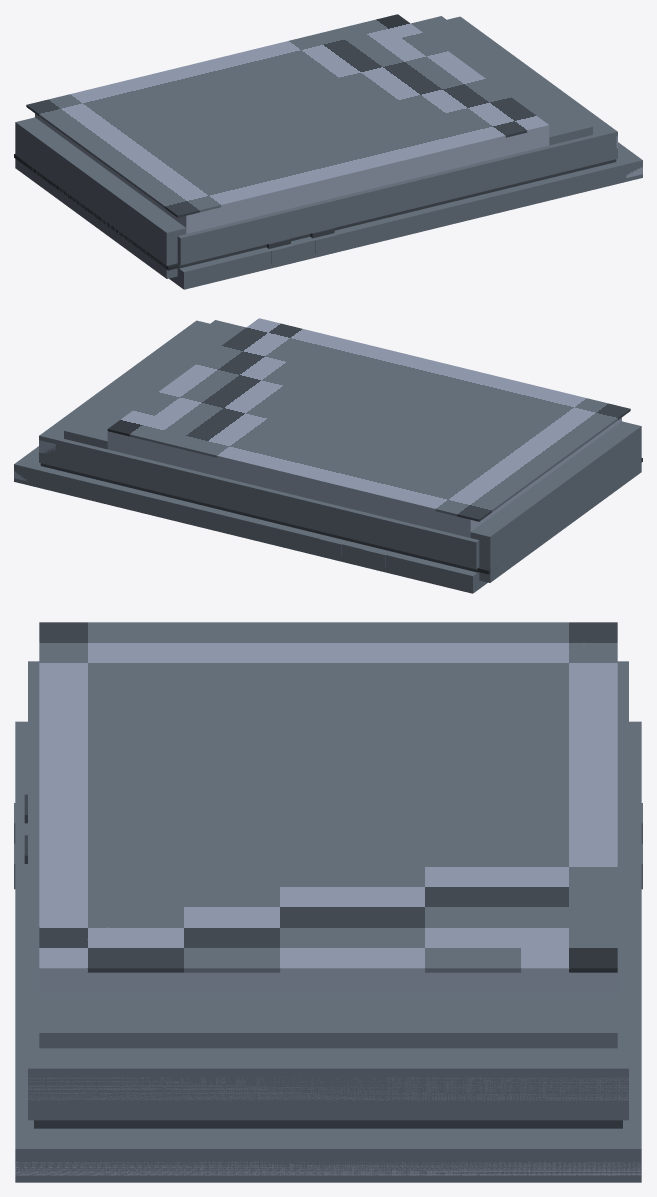
File: CMU3DBedsheetGray.glb
The picture shows the model from 3 angles, top to bottom: view 1: azimuth 30°, elevation 25°; view 2: azimuth 150°, elevation 25°; view 3: azimuth 270°, elevation 25°; orthographic projection. The views are drawn at different scales.
Visible parts, largest first — view 1: original upper cloth weave and stripes, upper folded cloth, soft left folded edge, lower folded cloth, upper fold loft, staggered free cloth end, recessed fold seam, left lower seam; view 2: original upper cloth weave and stripes, upper folded cloth, soft left folded edge, lower folded cloth, upper fold loft, staggered free cloth end, recessed fold seam; view 3: original upper cloth weave and stripes, upper folded cloth, lower folded cloth, staggered free cloth end, upper fold loft, lower free hem, recessed fold seam, upper free hem.
Part boxes in pixels (box(x1,y1,x2,y2)): original upper cloth weave and stripes: box(26, 14, 549, 217); upper folded cloth: box(177, 16, 617, 265); soft left folded edge: box(15, 117, 186, 278); lower folded cloth: box(169, 142, 642, 289); upper fold loft: box(35, 113, 549, 233); staggered free cloth end: box(411, 16, 592, 145); recessed fold seam: box(178, 159, 616, 268); left lower seam: box(14, 154, 178, 270); original upper cloth weave and stripes: box(107, 318, 630, 521); upper folded cloth: box(39, 320, 479, 569); soft left folded edge: box(470, 421, 641, 582); lower folded cloth: box(14, 446, 487, 593); upper fold loft: box(107, 417, 621, 537); staggered free cloth end: box(64, 320, 245, 449); recessed fold seam: box(40, 463, 478, 572); original upper cloth weave and stripes: box(39, 622, 617, 972); upper folded cloth: box(28, 661, 628, 1120); lower folded cloth: box(15, 721, 641, 1182); staggered free cloth end: box(39, 992, 617, 1048); upper fold loft: box(39, 972, 617, 992); lower free hem: box(15, 1161, 641, 1175); recessed fold seam: box(34, 1120, 622, 1128); upper free hem: box(28, 1077, 628, 1100).
Size of the model in its own units: 0.6719 by 0.095 by 0.408.
Materials: 5 (1 with a texture image).
